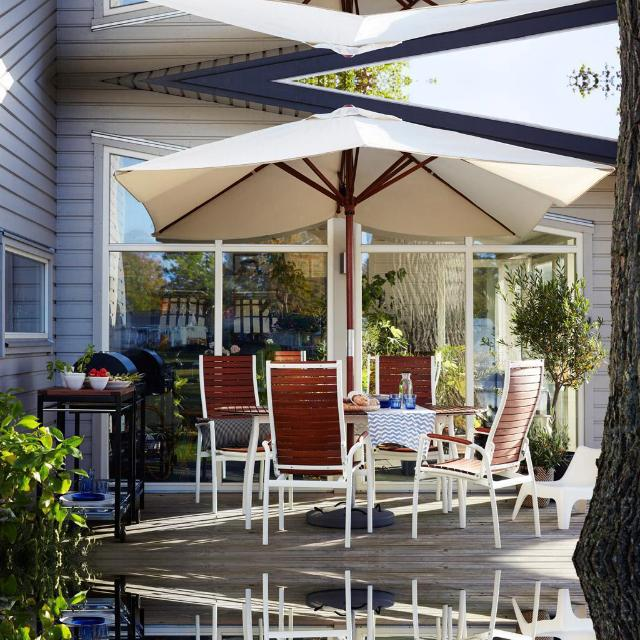armchair: (412, 359, 544, 547), (262, 360, 374, 547)
